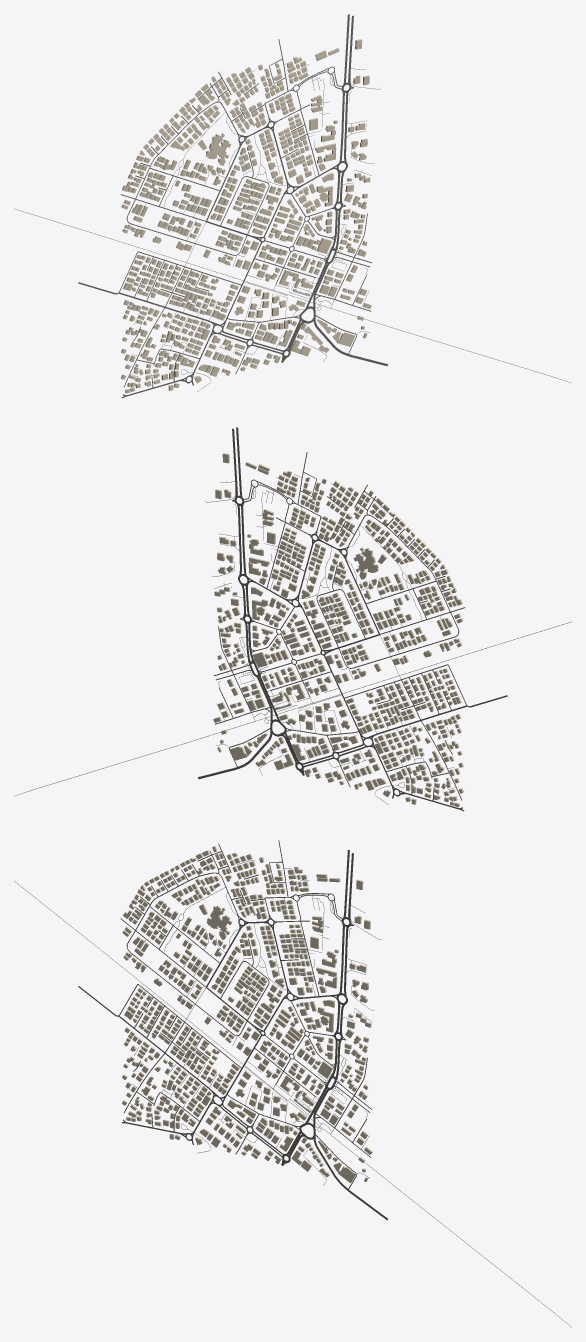
File: historic-palestine-11_32_3528_3261.glb
3 renders of one model, top to bottom at view 1: azimuth 30°, elevation 25°; view 2: azimuth 150°, elevation 25°; view 3: azimuth 330°, elevation 25°, orthographic.
Visible parts, largest first — view 1: Road .146; view 2: Road .146; view 3: no part large enough to name.
Boxes of the visible parts, <box> form: Road .146: <box>14,208,571,383</box>; Road .146: <box>14,621,571,796</box>.
Bounding box in the file's own units: 2176 × 1577 × 8.7.
